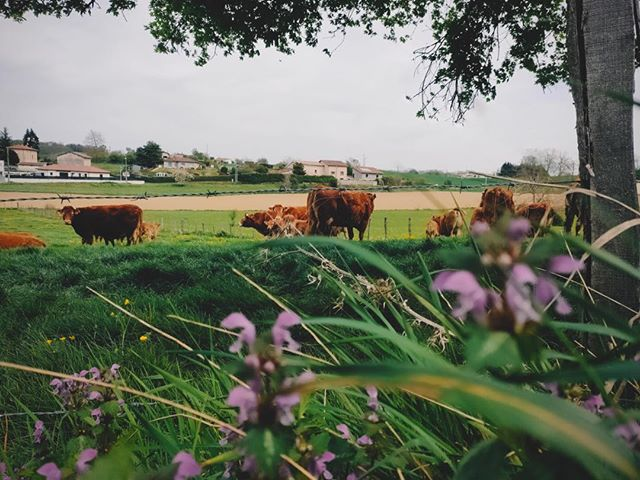animal: (53, 199, 154, 257), (301, 181, 375, 244), (232, 197, 302, 244)
building: (1, 150, 104, 179), (278, 159, 379, 186), (149, 147, 212, 179)
grass: (1, 246, 574, 480)
sky: (1, 1, 640, 152)
